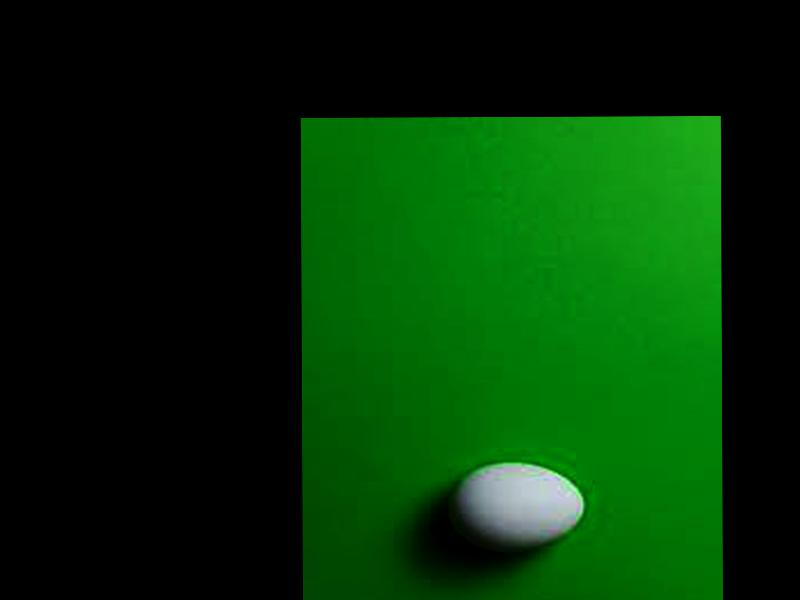Eggs: (448, 463, 585, 552)
